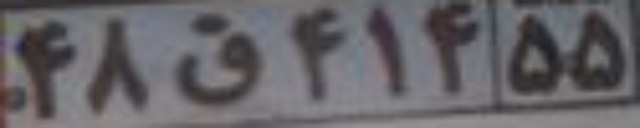1: (361, 7, 405, 94)
4: (15, 22, 75, 121), (290, 8, 348, 103), (425, 3, 484, 92)
5: (504, 15, 565, 92), (572, 10, 628, 90)
7: (83, 16, 156, 113)
ghaf: (167, 11, 265, 102)
